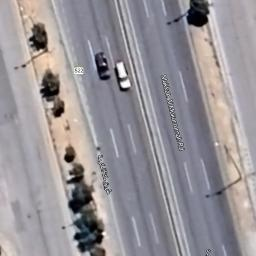SUV: (114, 58, 133, 94)
sedan: (92, 48, 112, 83)
